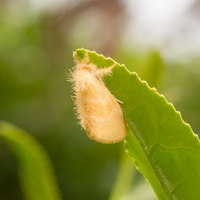insect: (70, 49, 126, 143)
